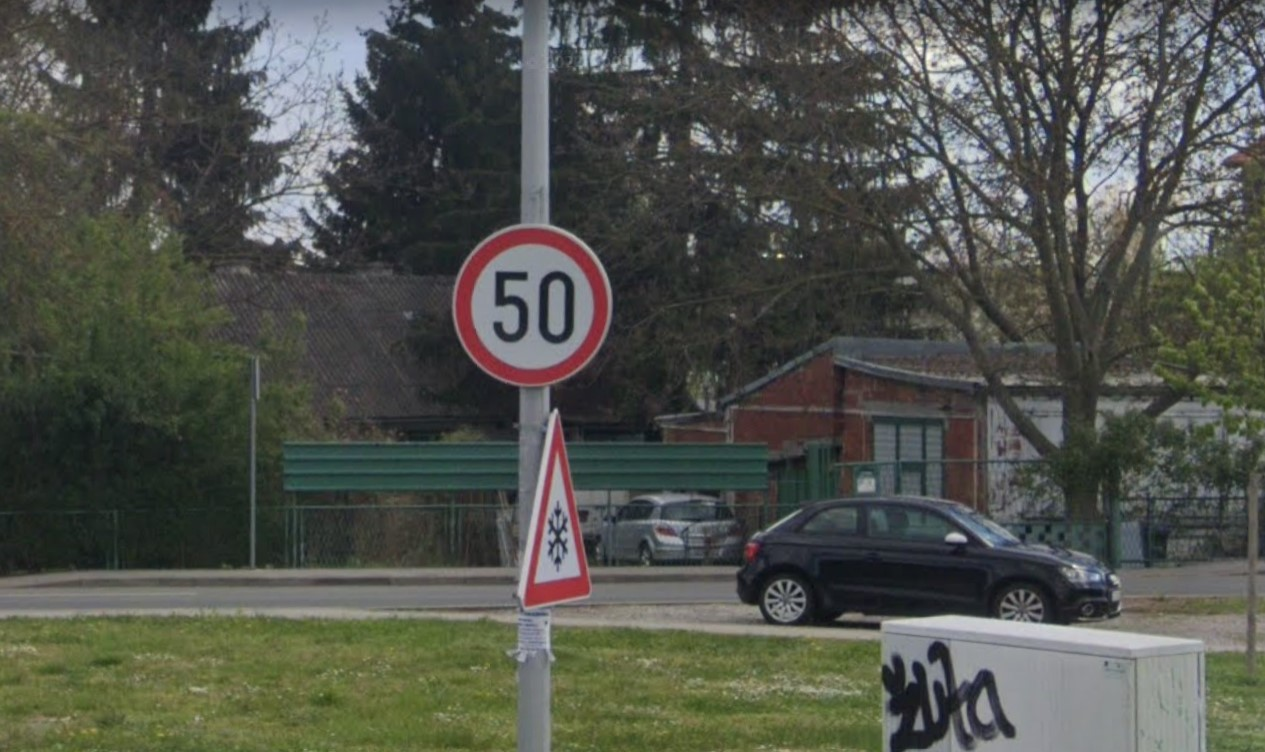Ograničenje brzine 50: (453, 223, 615, 389)
